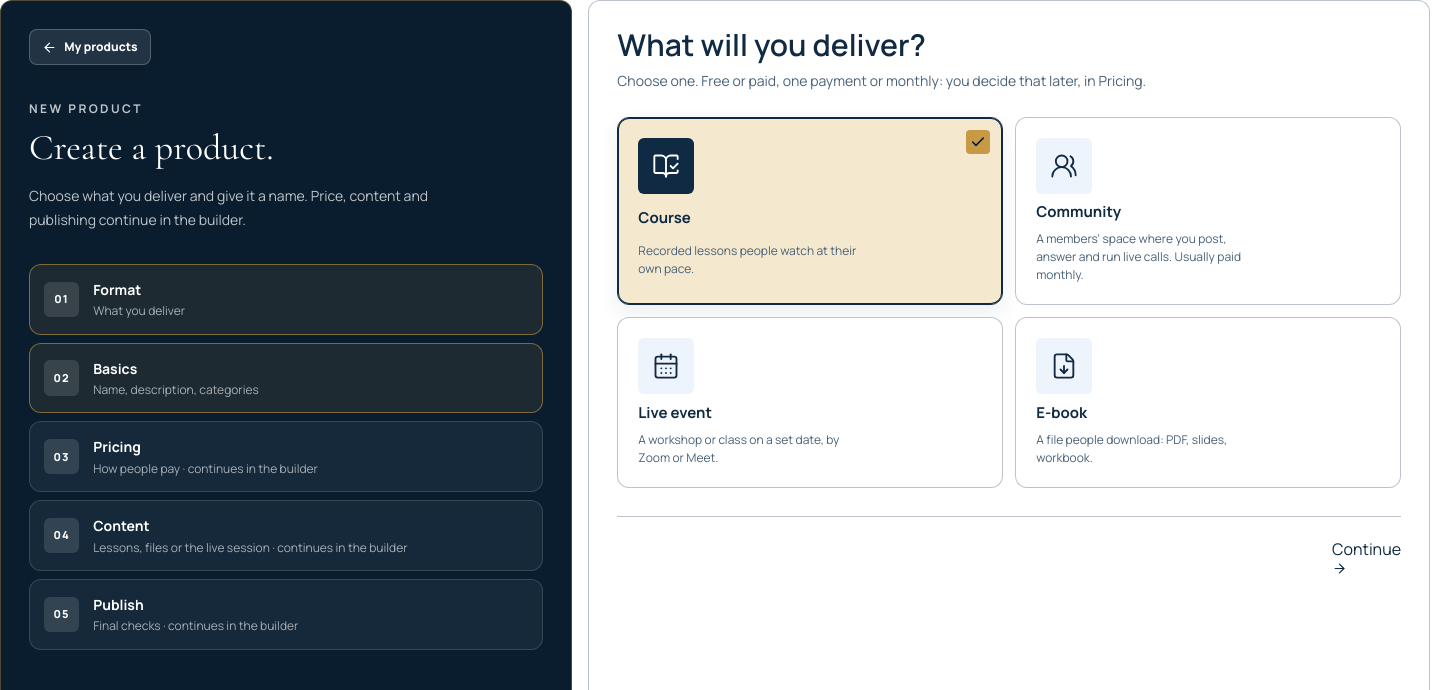
Test: CreateCourseStart — tela 1: o que voce vai entregar › clicar num cartao escolhe, avanca e leva o foco ao titulo da tela 2
This screenshot has width=1440, height=690.
Click the button "Community" at (1064,166), box x1=1015 y1=116 x2=1401 y2=305
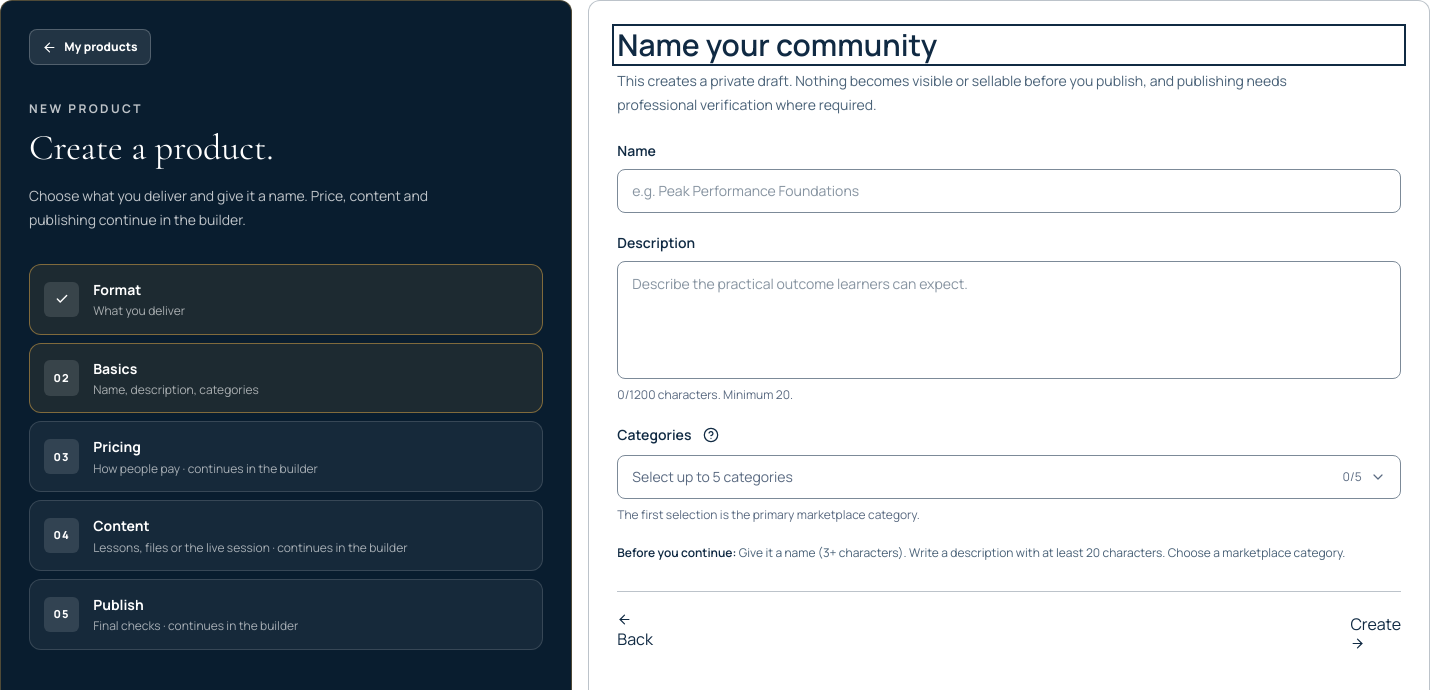
Now the field labelled "Name" is shown, box x1=617 y1=168 x2=1401 y2=212
